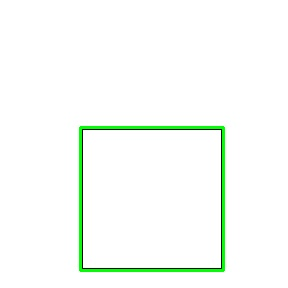line_segment: (79, 126, 225, 272)
